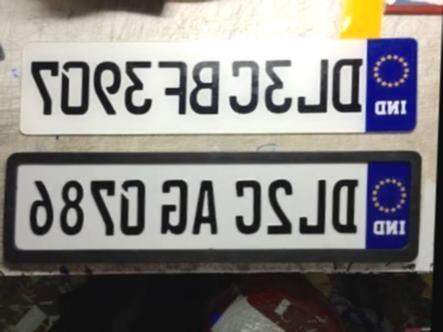License_Plate: (4, 152, 420, 270)
